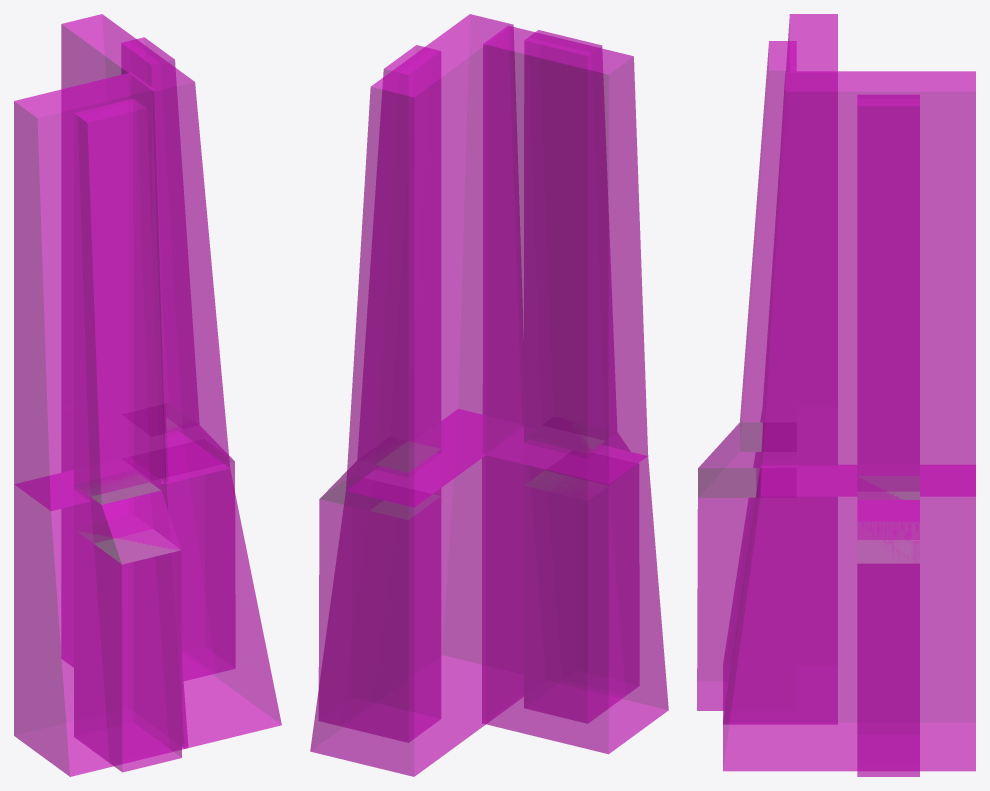
Rendered from SM_Bld_Wall_L_Corner_04_Collision.fbx.
The picture shows the model from 3 angles, left to right: view 1: azimuth 30°, elevation 25°; view 2: azimuth 150°, elevation 25°; view 3: azimuth 270°, elevation 25°; orthographic projection. The views are drawn at different scales.
Parts seen in each view (by area): view 1: SM_Bld_Wall_L_Corner_04_Collision; view 2: SM_Bld_Wall_L_Corner_04_Collision; view 3: SM_Bld_Wall_L_Corner_04_Collision.
Boxes of the visible parts, x1=… form: SM_Bld_Wall_L_Corner_04_Collision: x1=14, y1=14, x2=281, y2=776; SM_Bld_Wall_L_Corner_04_Collision: x1=310, y1=14, x2=668, y2=776; SM_Bld_Wall_L_Corner_04_Collision: x1=697, y1=14, x2=975, y2=776.
Size of the model in its own units: 460 by 1208 by 469.
